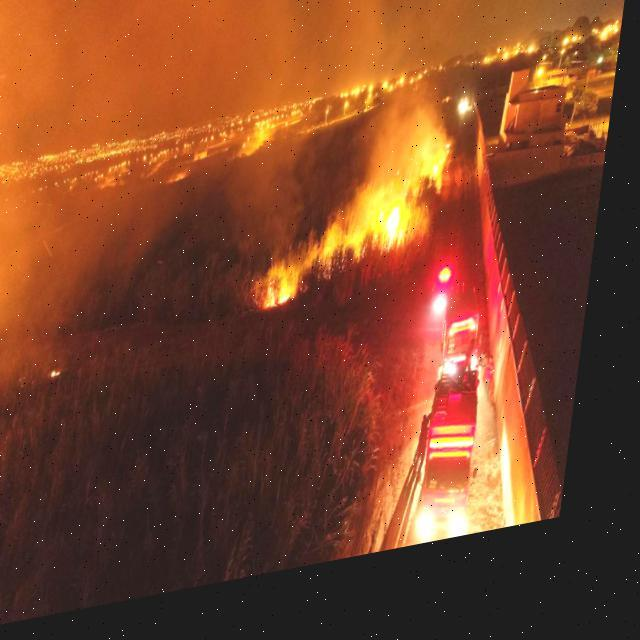Fire: (376, 214, 418, 272), (268, 284, 308, 325)
